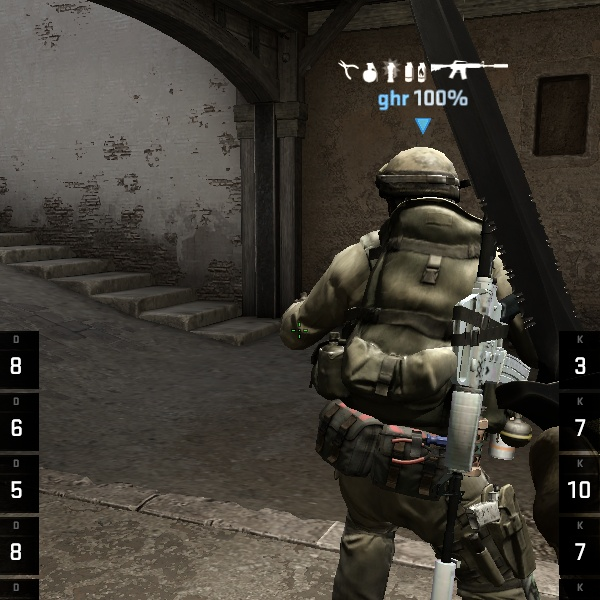ct_body: (270, 136, 582, 594)
ct_head: (361, 132, 495, 261)
